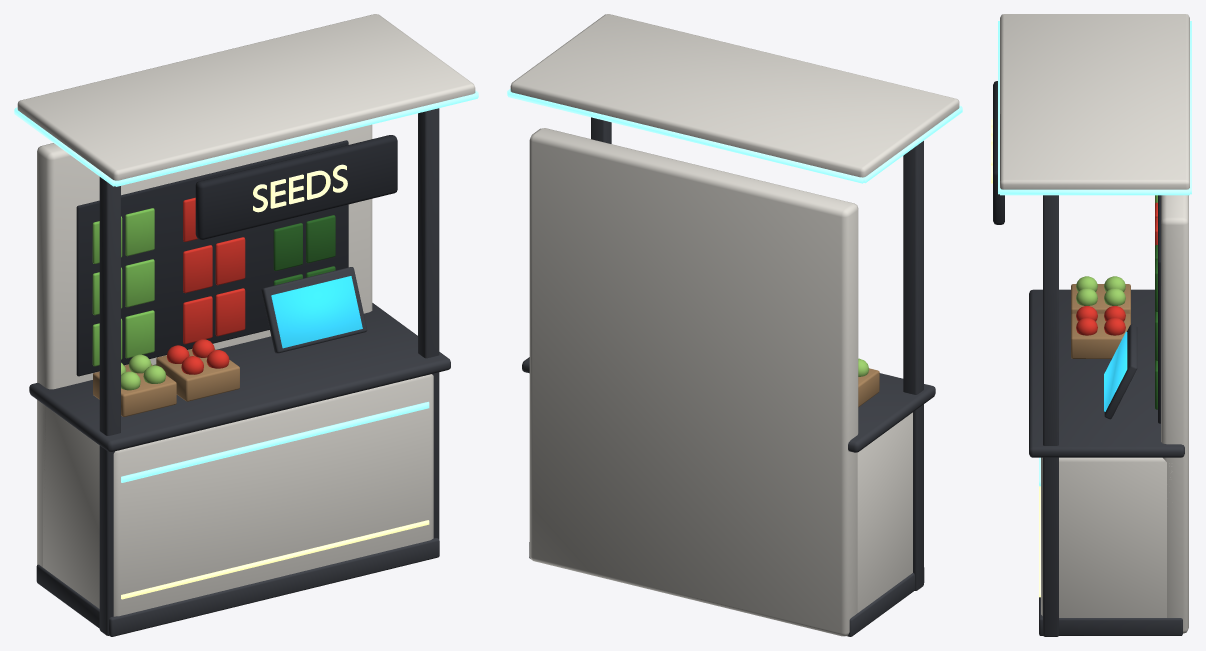
Rendered from SeedKiosk.fbx.
The picture shows the model from 3 angles, left to right: view 1: azimuth 30°, elevation 25°; view 2: azimuth 150°, elevation 25°; view 3: azimuth 270°, elevation 25°; orthographic projection. The views are drawn at different scales.
Visible parts, largest first — view 1: Counter, Canopy, Counter top, Display, Back panel, Sign plate, Post, Kick, Post.001, Till screen, Canopy light, Front stripe (+15 smaller); view 2: Back panel, Canopy, Counter, Post, Counter top, Canopy light.001, Kick, Canopy light.002; view 3: Canopy, Counter, Counter top, Back panel, Post.001, Kick, Crate.001, Canopy light.003, Till screen, Till, Sign plate, Crate (+7 smaller).
Boxes of the visible parts, x1,y1,x2,y2 form: Counter: (43,374,433,616); Canopy: (17,14,475,180); Counter top: (29,303,450,451); Display: (76,140,348,376); Back panel: (37,124,372,567); Sign plate: (195,135,397,239); Post: (99,177,120,635); Kick: (36,538,439,636); Post.001: (418,108,439,539); Till screen: (271,276,362,348); Canopy light: (114,92,477,186); Front stripe: (121,401,429,482); Back panel: (529,128,858,636); Canopy: (510,14,959,177); Counter: (857,412,912,612); Post: (903,141,923,590); Counter top: (522,357,935,452); Canopy light.001: (508,91,864,183); Kick: (529,542,924,636); Canopy light.002: (863,106,962,183); Canopy: (1000,14,1189,189); Counter: (1041,457,1172,617); Counter top: (1029,289,1184,457); Back panel: (1161,195,1188,633); Post.001: (1043,195,1058,636); Kick: (1039,597,1182,635); Crate.001: (1071,313,1130,358); Canopy light.003: (1000,189,1189,195); Till screen: (1104,331,1127,411); Till: (1104,324,1137,419); Sign plate: (993,81,1004,224); Crate: (1071,284,1130,314).
Bounding box in the file's own units: 2.02 × 2.56 × 1.01.
